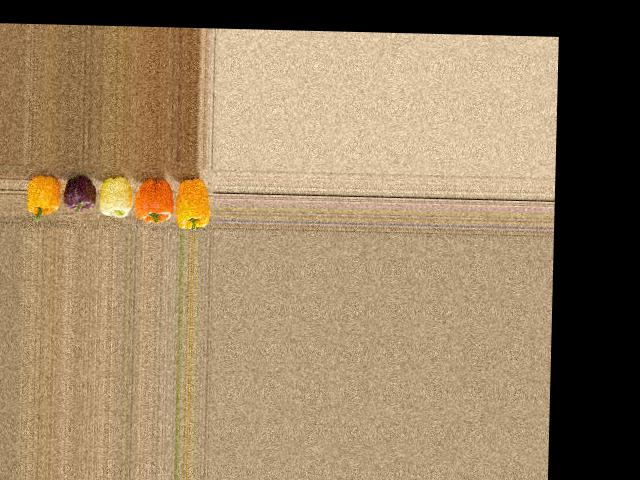bell_pepper: (23, 166, 58, 222)
